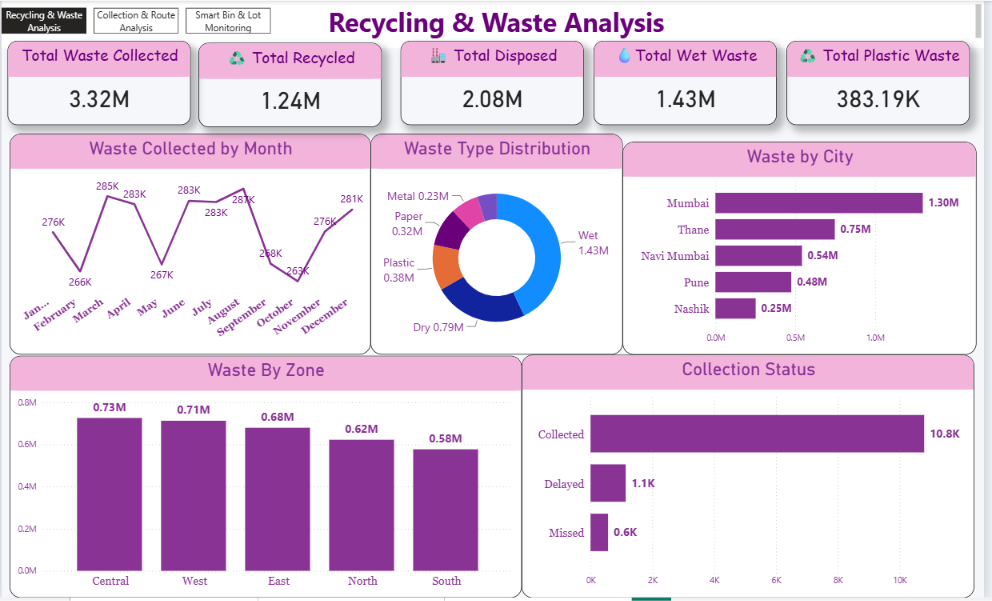

Layout of this report page (visuals, bound fields, positions):
{"tool":"powerbi","page":{"name":"Recycling & Waste Analysis","canvas":[1400,850],"ordinal":0},"visuals":[{"type":"textbox","box":[0,0,1400.1,66.9],"z":0},{"type":"card","title":"Total Waste Collected","fields":{"Values":["Sum(Waste_Collection.Waste_Collected_KG)"]},"box":[8.5,57,260.6,119.6],"z":1000},{"type":"lineChart","title":"Waste Collected by Month","fields":{"Category":["Waste_Collection.Date.Variation.Date Hierarchy.Month"],"Y":["Sum(Waste_Collection.Waste_Collected_KG)"]},"box":[11.4,189.4,514.2,314.8],"z":6000},{"type":"barChart","title":"Waste by City","fields":{"Category":["Waste_Collection.City"],"Y":["Sum(Waste_Collection.Waste_Collected_KG)"]},"box":[884.5,200.8,504.2,303.4],"z":7000},{"type":"donutChart","title":"Waste Type Distribution","fields":{"Category":["Waste_Collection.Waste_Type"],"Y":["Sum(Waste_Collection.Waste_Collected_KG)"]},"box":[525.6,189.4,358.9,314.8],"z":8000},{"type":"barChart","title":"Collection Status","fields":{"Category":["Waste_Collection.Collection_Status"],"Y":["CountNonNull(Waste_Collection.Collection_ID)"]},"box":[740.6,504.2,645.2,346.1],"z":9000},{"type":"columnChart","title":"Waste By Zone","fields":{"Category":["Waste_Collection.Zone"],"Y":["Sum(Waste_Collection.Waste_Collected_KG)"]},"box":[11.4,505.6,729.2,344.7],"z":10000},{"type":"card","title":"♻️ Total Recycled","fields":{"Values":["Sum(Waste_Collection.Recycling_KG)"]},"box":[280.6,59.8,260.6,119.6],"z":11001},{"type":"card","title":"🏭 Total Disposed","fields":{"Values":["Sum(Waste_Collection.Disposal_KG)"]},"box":[568.3,57,260.6,119.6],"z":11002},{"type":"card","title":"💧Total Wet Waste","fields":{"Values":["Waste_Collection.wet_waste"]},"box":[843.2,57,260.6,119.6],"z":11003},{"type":"card","title":"♻️ Total Plastic Waste","fields":{"Values":["Waste_Collection.plastic_waste"]},"box":[1118.1,57,260.6,119.6],"z":11004},{"type":"pageNavigator","box":[0,10,386,37],"z":11005}]}

Visuals, with their boxes on the page's 1400x850 design canvas (x1, y1, x2, y2). These are canvas units, not pixel positions in the 992x601 screenshot, which may show the page scaled, cropped or inside an application window:
textbox: pyautogui.locateOnScreen(0, 0, 1400, 67)
"Total Waste Collected" card: pyautogui.locateOnScreen(8, 57, 269, 177)
"Waste Collected by Month" lineChart: pyautogui.locateOnScreen(11, 189, 526, 504)
"Waste by City" barChart: pyautogui.locateOnScreen(884, 201, 1389, 504)
"Waste Type Distribution" donutChart: pyautogui.locateOnScreen(526, 189, 884, 504)
"Collection Status" barChart: pyautogui.locateOnScreen(741, 504, 1386, 850)
"Waste By Zone" columnChart: pyautogui.locateOnScreen(11, 506, 741, 850)
"♻️ Total Recycled" card: pyautogui.locateOnScreen(281, 60, 541, 179)
"🏭 Total Disposed" card: pyautogui.locateOnScreen(568, 57, 829, 177)
"💧Total Wet Waste" card: pyautogui.locateOnScreen(843, 57, 1104, 177)
"♻️ Total Plastic Waste" card: pyautogui.locateOnScreen(1118, 57, 1379, 177)
pageNavigator: pyautogui.locateOnScreen(0, 10, 386, 47)
